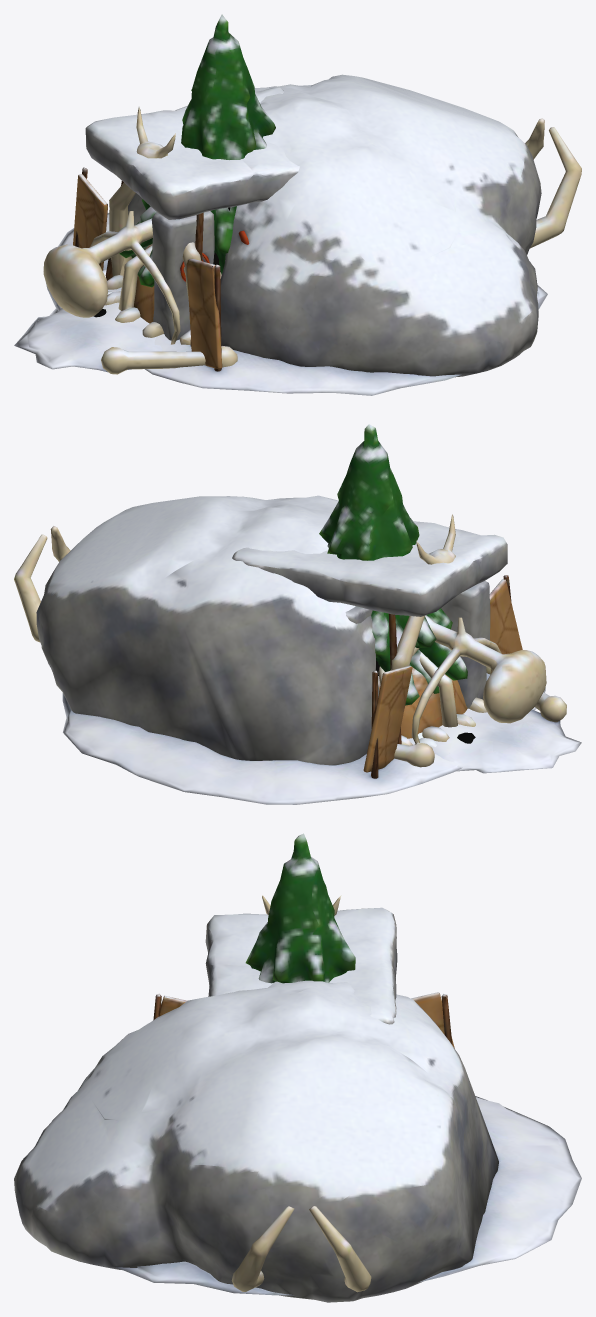
File: stone_decor_snow.glb
3 renders of one model, top to bottom at view 1: azimuth 30°, elevation 25°; view 2: azimuth 150°, elevation 25°; view 3: azimuth 270°, elevation 25°, orthographic. The views are drawn at different scales.
Visible parts, largest first — view 1: Cave, Dolmen, Mammoth, Pine_B, BoneHut; view 2: Cave, Dolmen, Mammoth, Pine_B, BoneHut; view 3: Cave, Dolmen, Pine_B, Mammoth.
Boxes of the visible parts, left/top/right/bottom form: Cave: left=46, top=74, right=547, bottom=395; Dolmen: left=85, top=87, right=299, bottom=340; Mammoth: left=14, top=118, right=581, bottom=374; Pine_B: left=119, top=14, right=275, bottom=287; BoneHut: left=105, top=243, right=221, bottom=344; Cave: left=36, top=495, right=545, bottom=804; Dolmen: left=232, top=521, right=507, bottom=747; Mammoth: left=14, top=526, right=581, bottom=773; Pine_B: left=319, top=424, right=467, bottom=705; BoneHut: left=378, top=652, right=486, bottom=745; Cave: left=14, top=895, right=581, bottom=1302; Dolmen: left=205, top=907, right=397, bottom=1024; Pine_B: left=245, top=833, right=355, bottom=983; Mammoth: left=231, top=1206, right=371, bottom=1292.
Size of the model in its own units: 6.78 by 3.8 by 5.76.
1 material, 1 textured.
